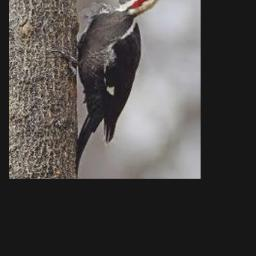Woodpecker: (52, 0, 170, 177)
